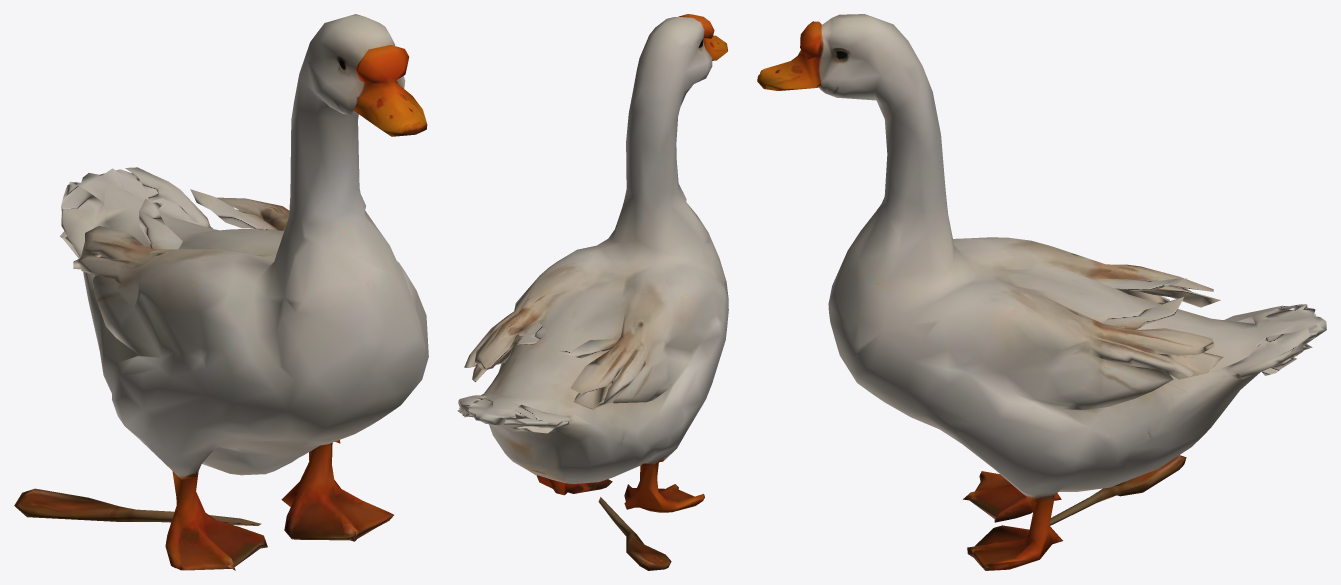
3 views of the same model, side by side, from view 1: azimuth 30°, elevation 25°; view 2: azimuth 150°, elevation 25°; view 3: azimuth 270°, elevation 25° (orthographic). The views are drawn at different scales.
Visible parts, largest first — view 1: tripo_node_0685625e-929c-4bd9-961f-0627353042ba; view 2: tripo_node_0685625e-929c-4bd9-961f-0627353042ba; view 3: tripo_node_0685625e-929c-4bd9-961f-0627353042ba.
Part boxes in pixels (x1=…): tripo_node_0685625e-929c-4bd9-961f-0627353042ba: x1=14, y1=14, x2=428, y2=570; tripo_node_0685625e-929c-4bd9-961f-0627353042ba: x1=457, y1=14, x2=728, y2=570; tripo_node_0685625e-929c-4bd9-961f-0627353042ba: x1=757, y1=14, x2=1326, y2=570.
Size of the model in its own units: 0.5174 by 1 by 0.9994.
Materials: 1 (1 with a texture image).
